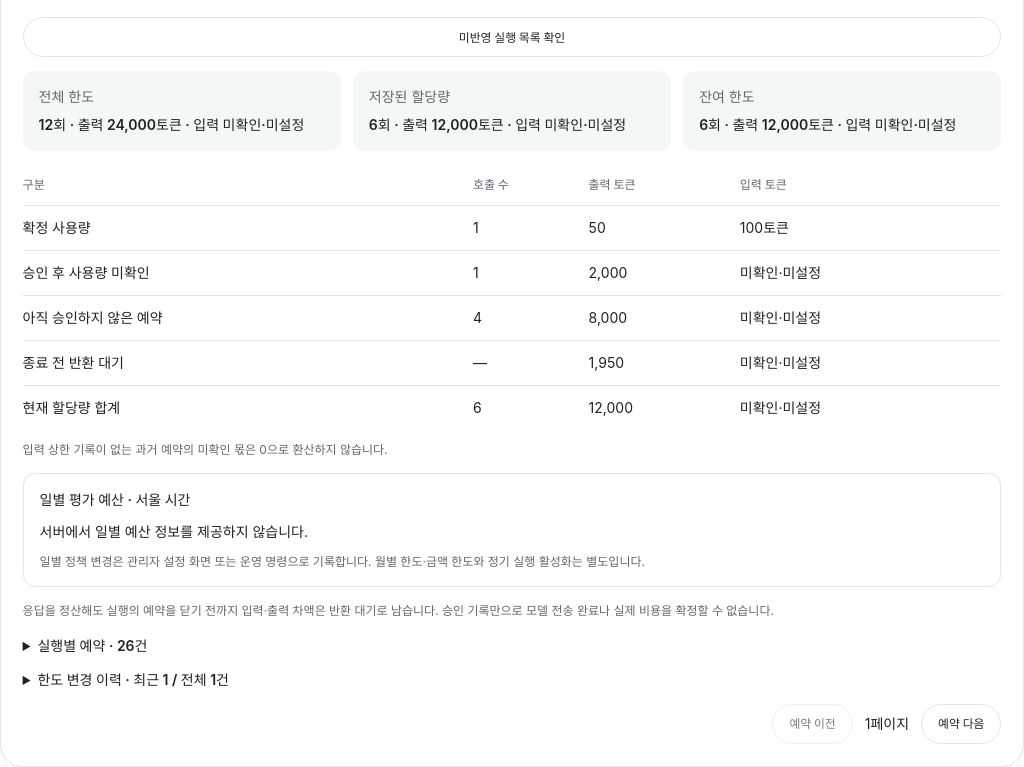
관리자 예산 장부 › 페이지 내역과 전체 합계를 혼동하지 않고 다음 예약 페이지를 조회한다
This screenshot has width=1024, height=767.
(page scrolled)
Click the button "예약 다음": {"x": 961, "y": 724} x1=921 y1=704 x2=1001 y2=744
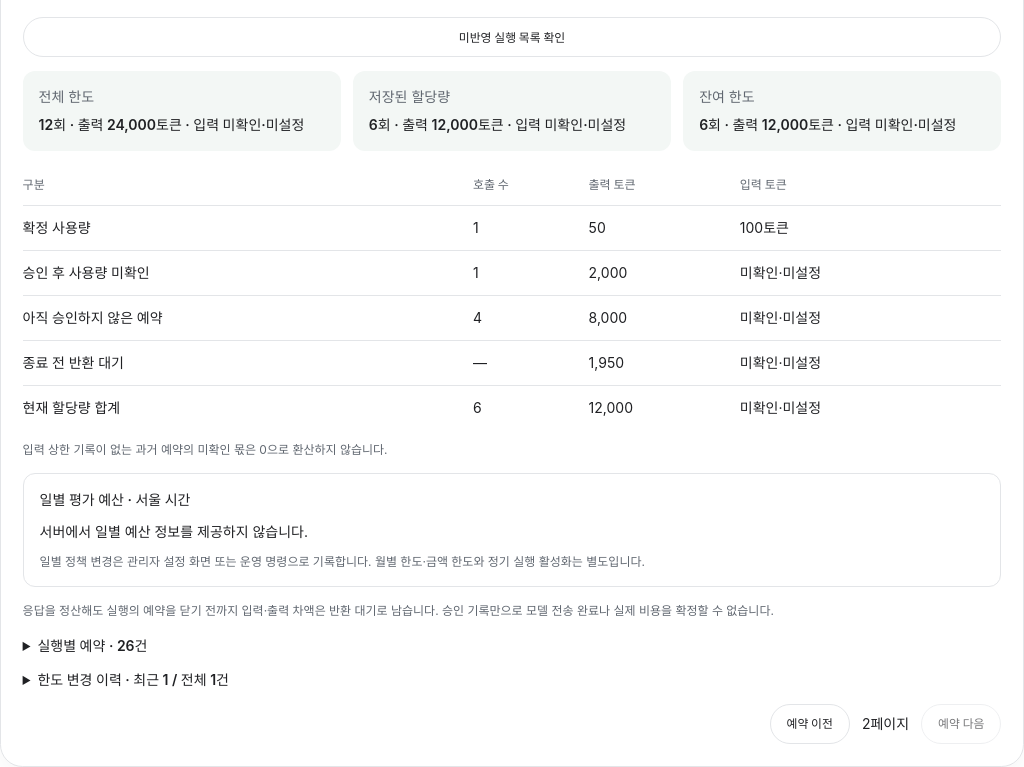
Now the button "예약 다음" is disabled, box x1=921 y1=704 x2=1001 y2=744
